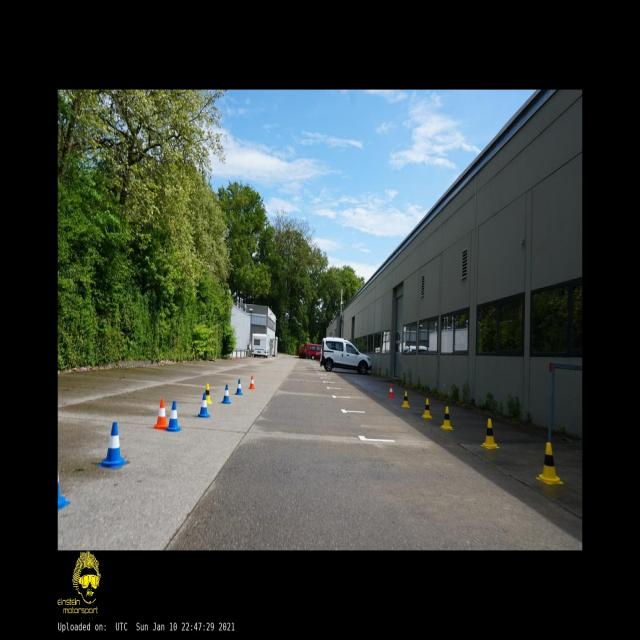blue_cone: (99, 422, 127, 468), (165, 401, 182, 431), (58, 472, 70, 511), (197, 393, 210, 417), (222, 384, 230, 404), (235, 379, 243, 395)
orange_cone: (152, 399, 169, 429), (388, 383, 394, 398), (249, 376, 255, 389)
yellow_cone: (536, 442, 563, 484), (480, 418, 500, 448), (440, 406, 454, 430), (422, 398, 432, 419), (205, 382, 212, 404), (402, 391, 411, 408)
